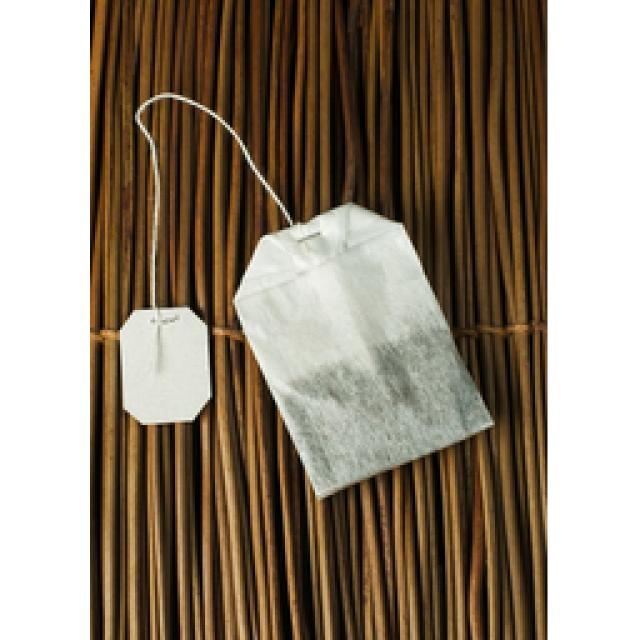tea-bags: (235, 202, 492, 498)
